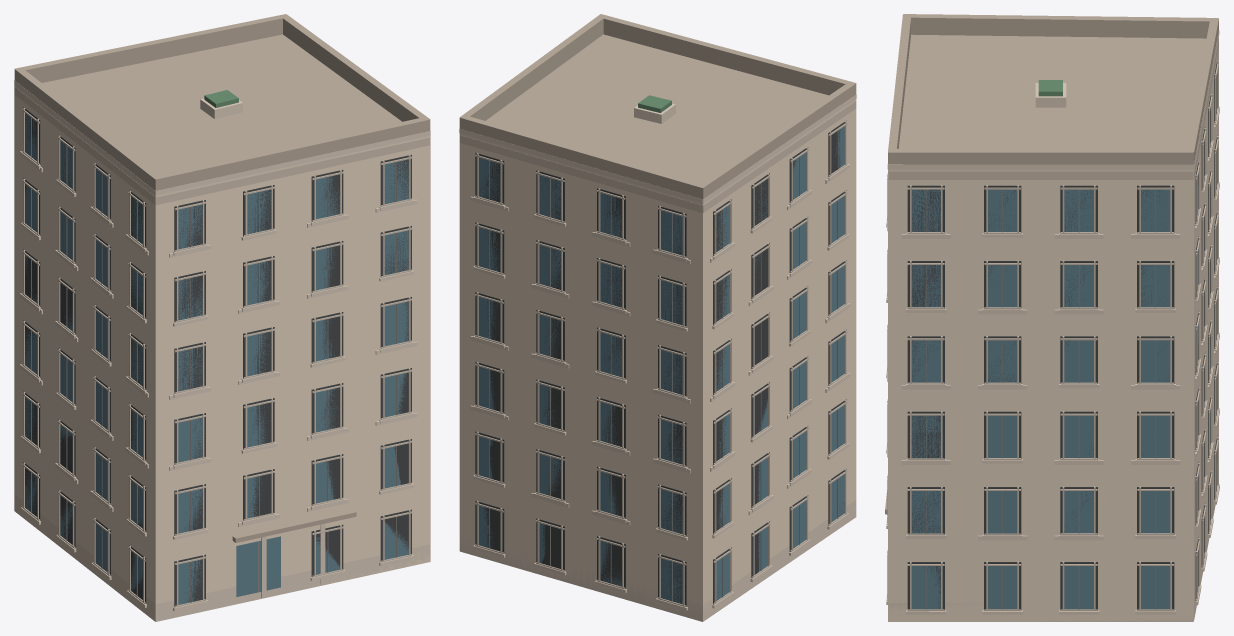
Rendered from cop_predio_historico_03__way_588693296.fbx.
3 renders of one model, left to right at view 1: azimuth 30°, elevation 25°; view 2: azimuth 150°, elevation 25°; view 3: azimuth 270°, elevation 25°, orthographic. The views are drawn at different scales.
Parts seen in each view (by area): view 1: cop_predio_historico_03__way_588693296_wall, cop_predio_historico_03__way_588693296_roof, cop_predio_historico_03__way_588693296_glass, cop_predio_historico_03__way_588693296_shadow, cop_predio_historico_03__way_588693296_trim, cop_predio_historico_03__way_588693296_stone, cop_predio_historico_03__way_588693296_metal; view 2: cop_predio_historico_03__way_588693296_wall, cop_predio_historico_03__way_588693296_roof, cop_predio_historico_03__way_588693296_glass, cop_predio_historico_03__way_588693296_shadow, cop_predio_historico_03__way_588693296_trim, cop_predio_historico_03__way_588693296_stone, cop_predio_historico_03__way_588693296_metal; view 3: cop_predio_historico_03__way_588693296_wall, cop_predio_historico_03__way_588693296_roof, cop_predio_historico_03__way_588693296_glass, cop_predio_historico_03__way_588693296_trim, cop_predio_historico_03__way_588693296_shadow, cop_predio_historico_03__way_588693296_stone, cop_predio_historico_03__way_588693296_metal.
Boxes of the visible parts, <box> form: cop_predio_historico_03__way_588693296_wall: <box>14,85,430,621</box>; cop_predio_historico_03__way_588693296_roof: <box>14,14,430,542</box>; cop_predio_historico_03__way_588693296_glass: <box>25,113,408,604</box>; cop_predio_historico_03__way_588693296_shadow: <box>23,107,411,606</box>; cop_predio_historico_03__way_588693296_trim: <box>14,87,429,607</box>; cop_predio_historico_03__way_588693296_stone: <box>14,80,430,621</box>; cop_predio_historico_03__way_588693296_metal: <box>31,117,396,602</box>; cop_predio_historico_03__way_588693296_wall: <box>459,99,856,621</box>; cop_predio_historico_03__way_588693296_roof: <box>459,14,856,199</box>; cop_predio_historico_03__way_588693296_glass: <box>478,126,844,604</box>; cop_predio_historico_03__way_588693296_shadow: <box>475,120,846,606</box>; cop_predio_historico_03__way_588693296_trim: <box>460,101,856,606</box>; cop_predio_historico_03__way_588693296_stone: <box>459,94,856,621</box>; cop_predio_historico_03__way_588693296_metal: <box>489,131,838,601</box>; cop_predio_historico_03__way_588693296_wall: <box>888,44,1218,621</box>; cop_predio_historico_03__way_588693296_roof: <box>885,14,1218,514</box>; cop_predio_historico_03__way_588693296_glass: <box>911,186,1217,609</box>; cop_predio_historico_03__way_588693296_trim: <box>887,37,1218,611</box>; cop_predio_historico_03__way_588693296_shadow: <box>907,60,1217,610</box>; cop_predio_historico_03__way_588693296_stone: <box>886,30,1219,621</box>; cop_predio_historico_03__way_588693296_metal: <box>926,75,1216,609</box>.
Bounding box in the file's own units: 1200 × 1869 × 1209.
